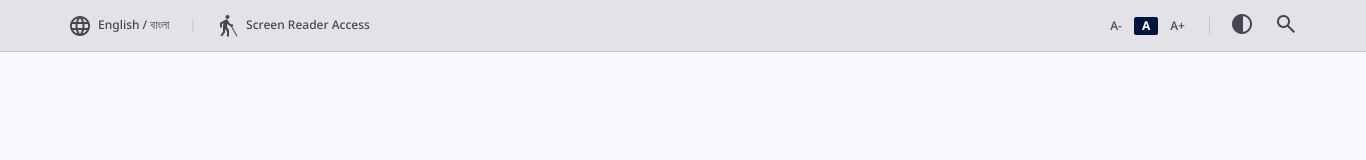
Language switching › toggles the site into Bengali from the utility bar
Check: the text "English / বাংলা" is shown, box [98,18,169,33]
Click the button with aria-label "Toggle language between English and Bengali": [119, 26] box [64,14,174,38]
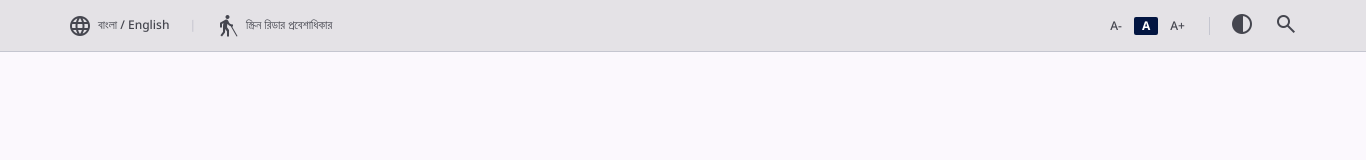
Check: the text "স্ক্রিন রিডার প্রবেশাধিকার" is shown, box [246,18,332,33]
